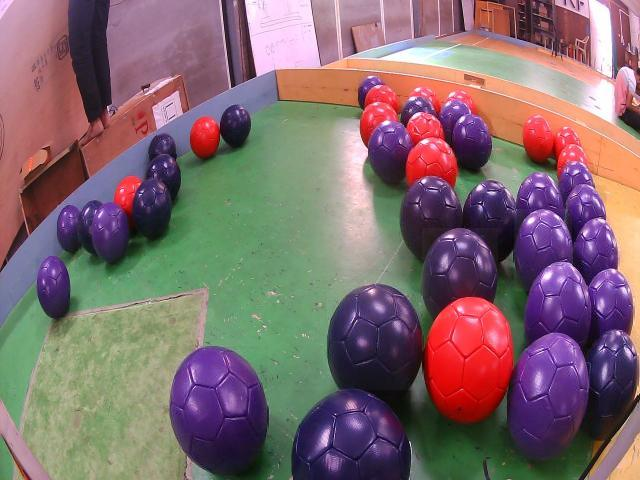jambhalya: (170, 346, 268, 476), (507, 334, 589, 460), (422, 229, 498, 318), (525, 262, 592, 348), (400, 175, 463, 260), (514, 210, 572, 291), (589, 269, 634, 343), (574, 218, 619, 285), (368, 120, 413, 183), (517, 172, 564, 223), (565, 185, 606, 242), (91, 202, 129, 263), (452, 115, 492, 171), (36, 257, 70, 318), (559, 161, 594, 205), (439, 100, 471, 146), (57, 205, 80, 253), (401, 96, 437, 126), (359, 75, 384, 109)
kaalyya: (327, 283, 423, 402), (292, 390, 411, 480), (584, 330, 638, 440), (464, 180, 518, 263), (133, 179, 171, 238), (146, 155, 181, 200), (78, 200, 102, 255), (220, 105, 251, 146), (148, 133, 177, 161)
